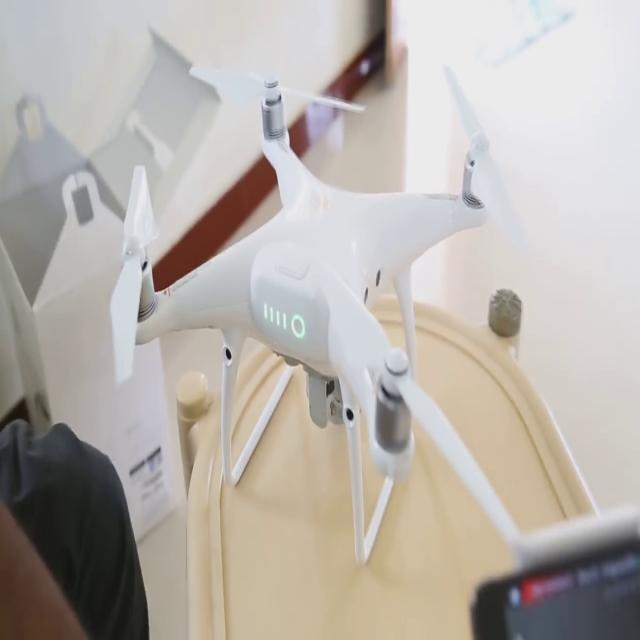drones: (103, 32, 567, 560)
